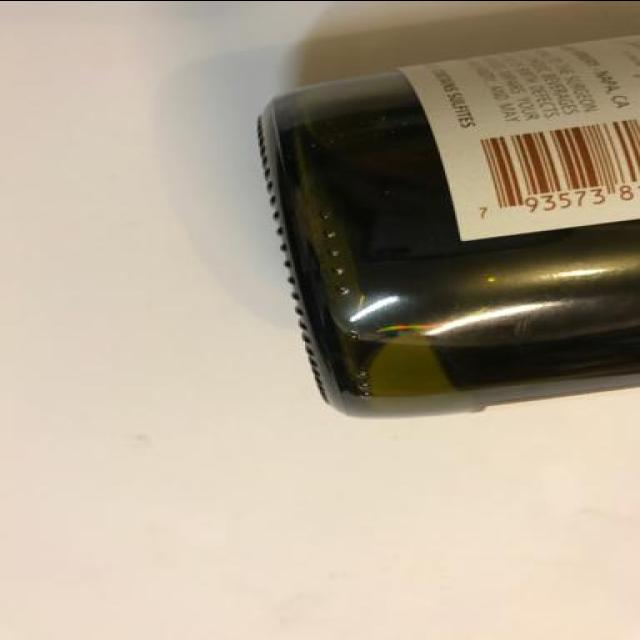litter: (256, 33, 640, 420)
